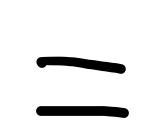eqv: (35, 51, 129, 122)
